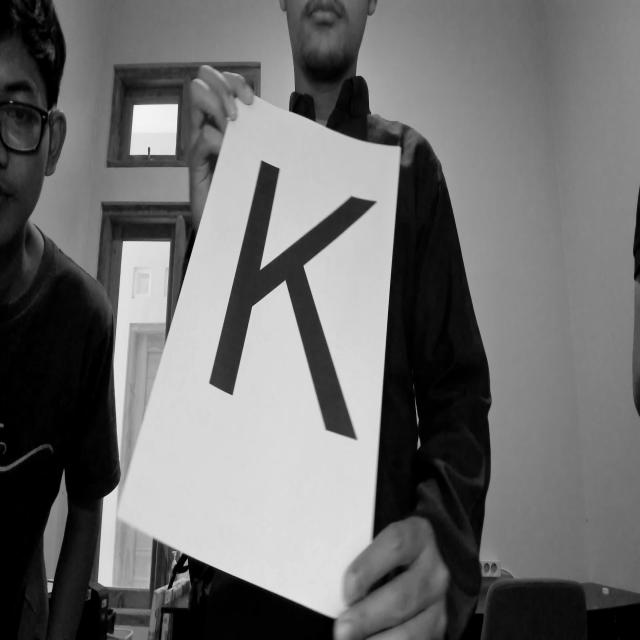k: (204, 144, 375, 462)
